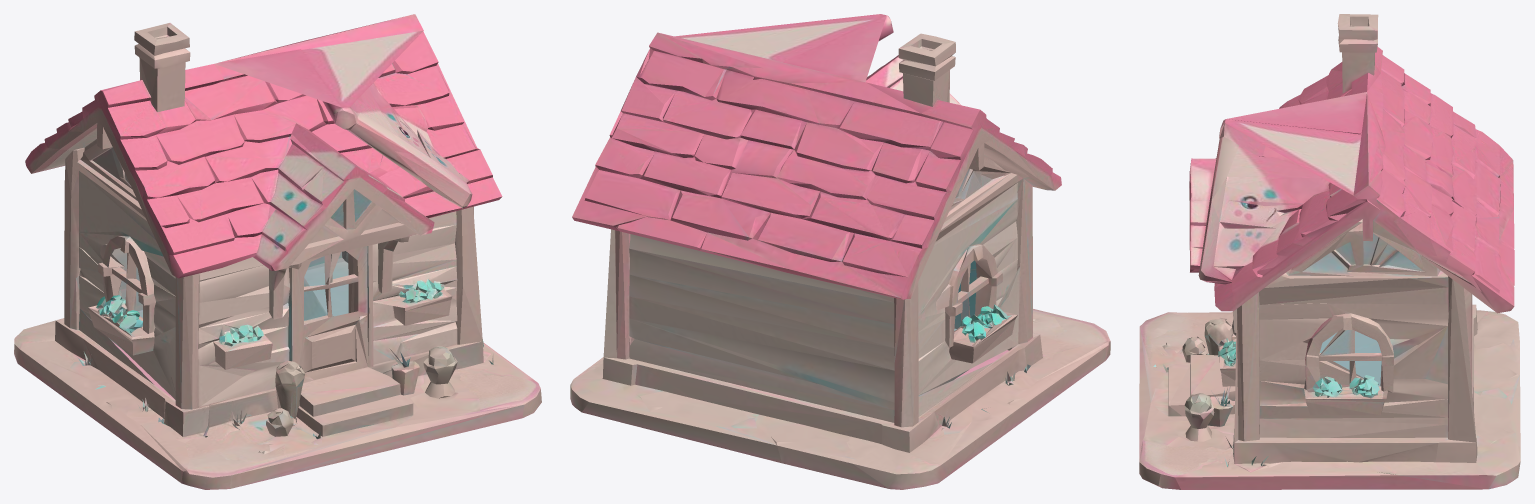
Rendered from bld-cottage.glb.
3 views of the same model, side by side, from view 1: azimuth 30°, elevation 25°; view 2: azimuth 150°, elevation 25°; view 3: azimuth 270°, elevation 25° (orthographic). The views are drawn at different scales.
Size of the model in its own units: 1.9 by 1.83 by 1.86.
1 material, 1 textured.
